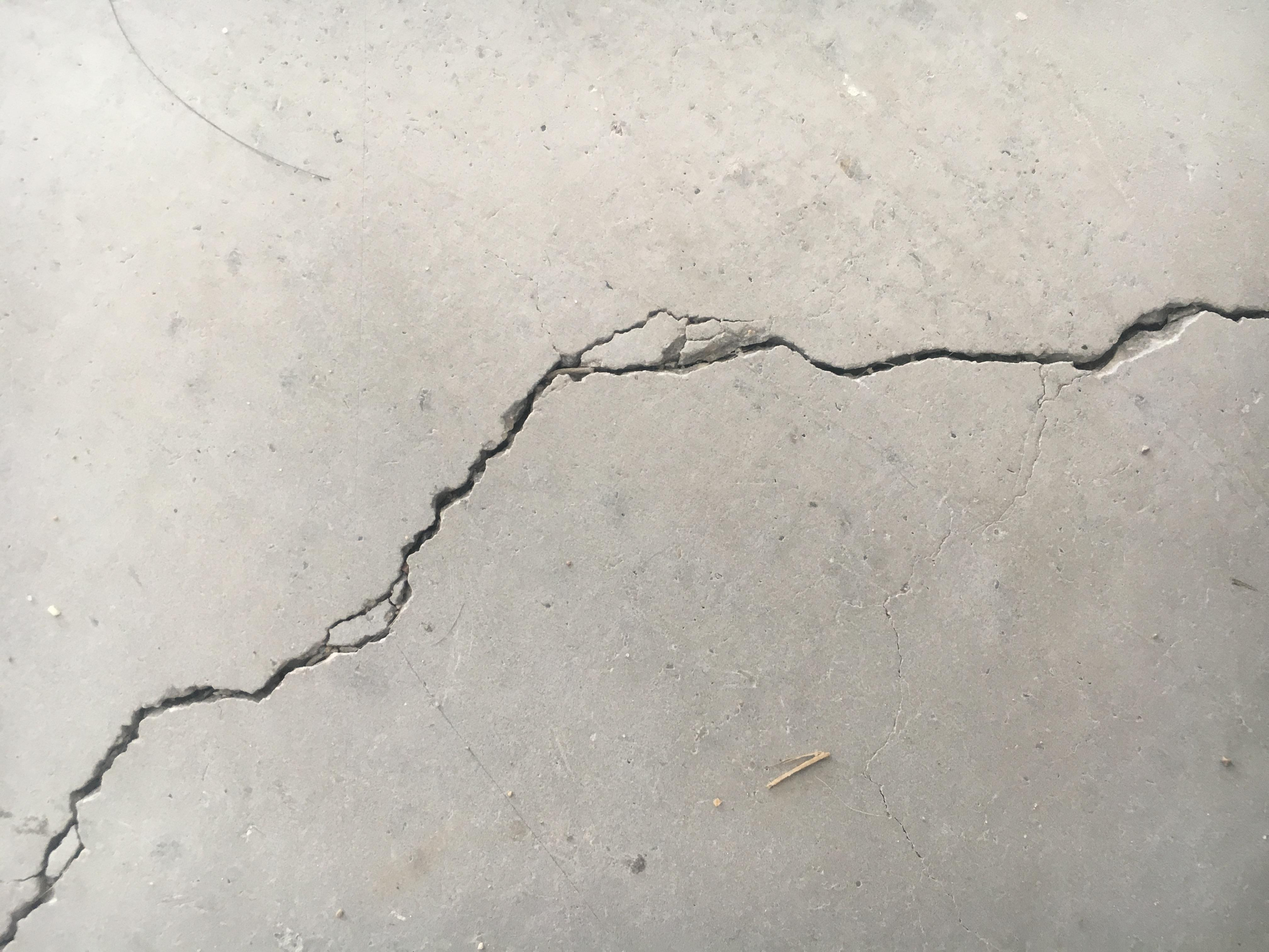Structural-Crack: (5, 294, 1265, 944)
